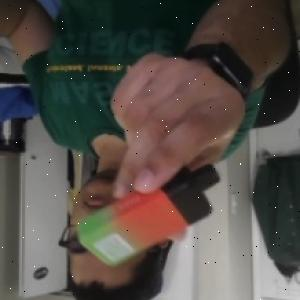Swift-E-Ciggirate: (75, 165, 226, 269)
